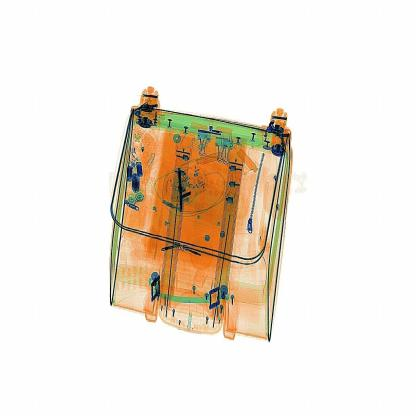knife: (168, 160, 196, 218)
